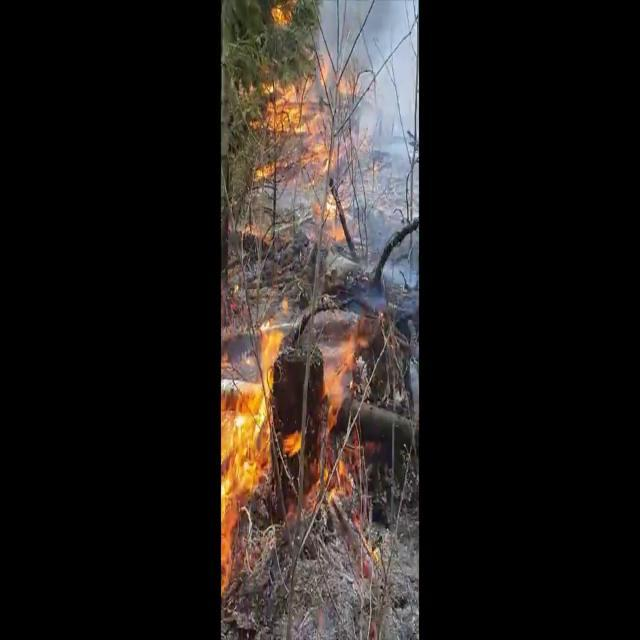Fire: (222, 16, 370, 584), (240, 10, 354, 242)
Smoke: (326, 2, 418, 264)
